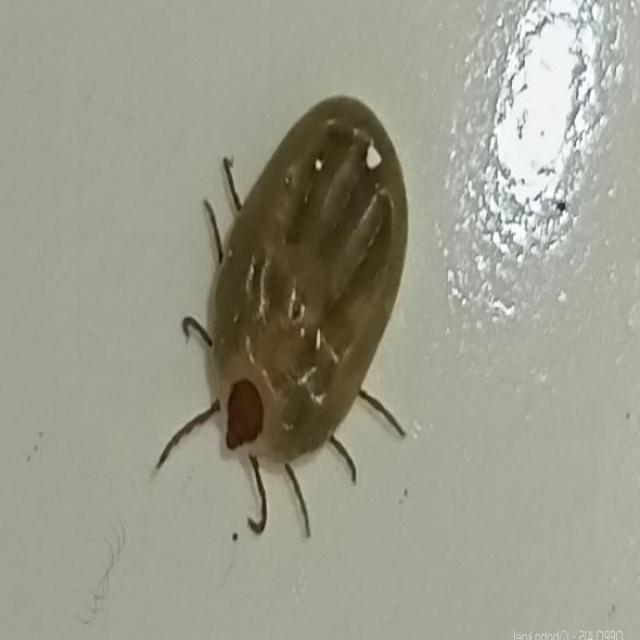Rhipicephalus Sanguineus-F-Fed: (155, 96, 409, 541)
